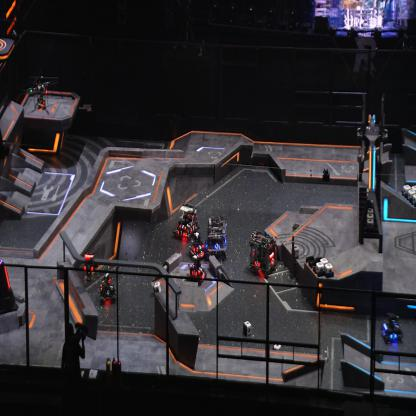car: (248, 228, 278, 277), (205, 216, 228, 261), (172, 203, 198, 242), (380, 312, 402, 344), (185, 254, 207, 285), (97, 272, 117, 305), (188, 231, 207, 261)
